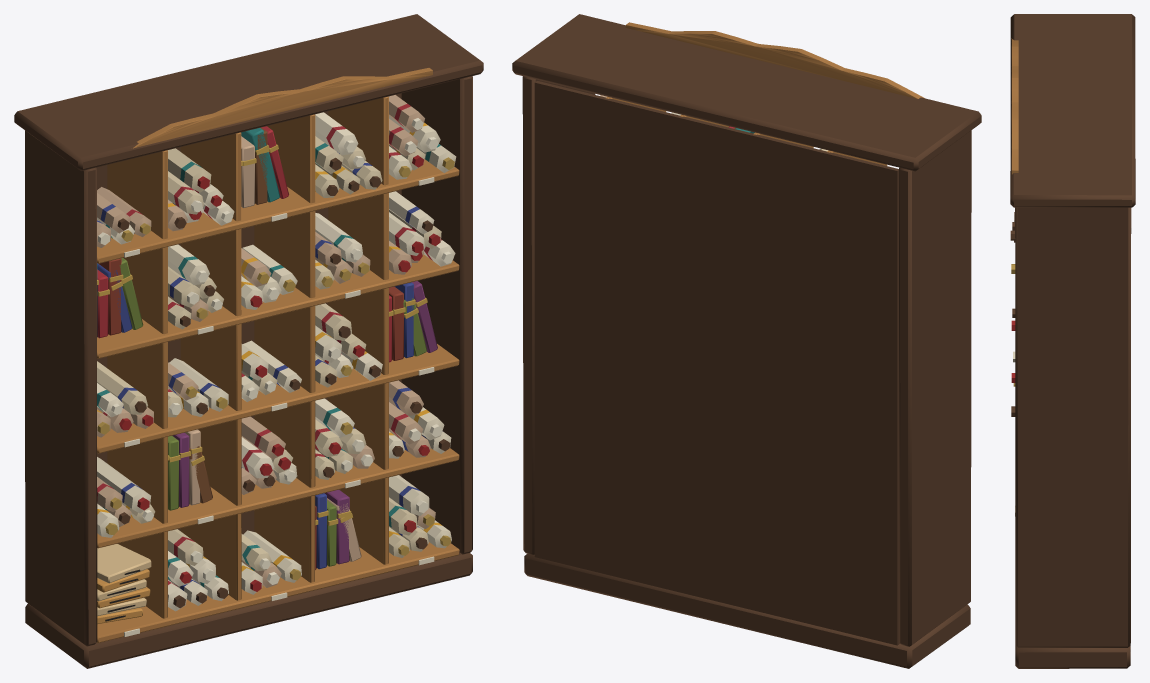
The model's file is deco_shelf_scrolls.fbx.
3 views of the same model, side by side, from view 1: azimuth 30°, elevation 25°; view 2: azimuth 150°, elevation 25°; view 3: azimuth 270°, elevation 25° (orthographic). The views are drawn at different scales.
Parts seen in each view (by area): view 1: Shelf_Scrolls_Shelf, Shelf_Scrolls_Scrolls, Shelf_Scrolls_Books; view 2: Shelf_Scrolls_Shelf; view 3: Shelf_Scrolls_Shelf, Shelf_Scrolls_Scrolls.
Boxes of the visible parts, left/top/right/bottom form: Shelf_Scrolls_Shelf: left=14, top=14, right=483, bottom=668; Shelf_Scrolls_Scrolls: left=97, top=95, right=456, bottom=611; Shelf_Scrolls_Books: left=97, top=126, right=437, bottom=624; Shelf_Scrolls_Shelf: left=512, top=14, right=981, bottom=668; Shelf_Scrolls_Shelf: left=1010, top=14, right=1135, bottom=668; Shelf_Scrolls_Scrolls: left=1010, top=212, right=1015, bottom=516.
Size of the model in its own units: 188 by 236 by 54.11.
